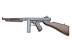gun: (0, 13, 70, 42)
